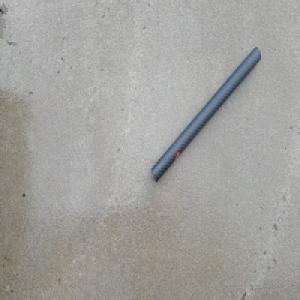LuggagePart: (151, 44, 261, 184)
